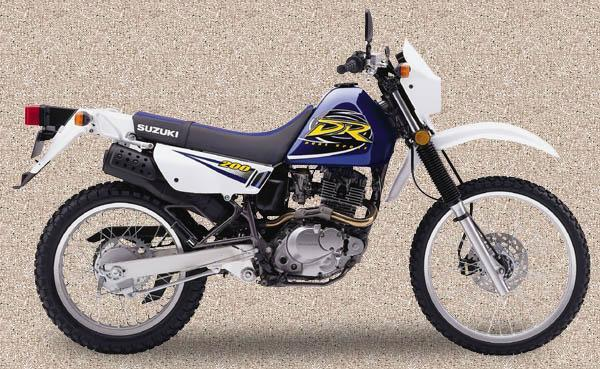motorcycle: (16, 1, 600, 364)
